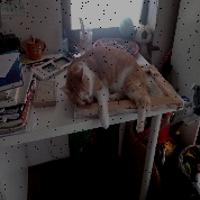asleep: (58, 44, 150, 132)
